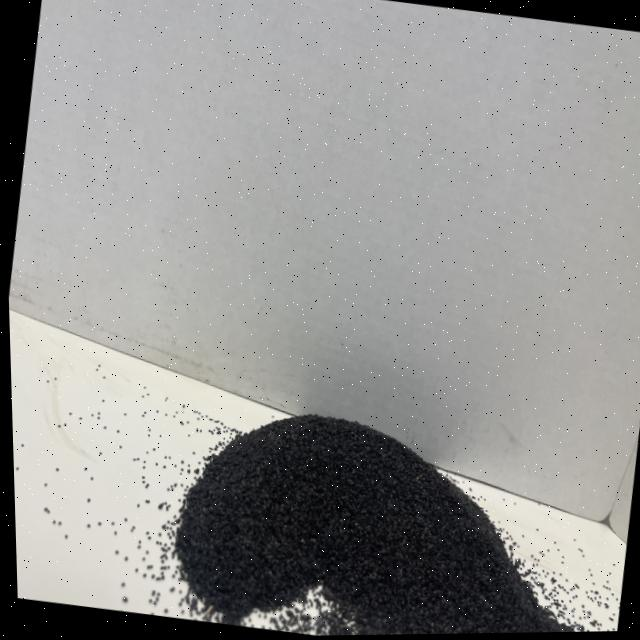Poppy Seeds: (148, 377, 635, 638)
